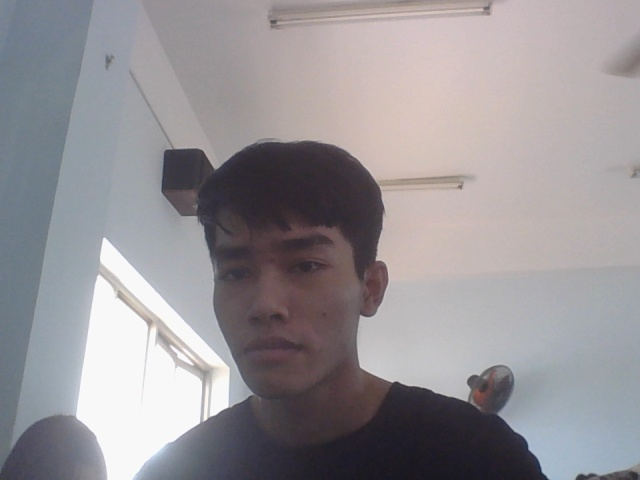real: (193, 125, 393, 408)
